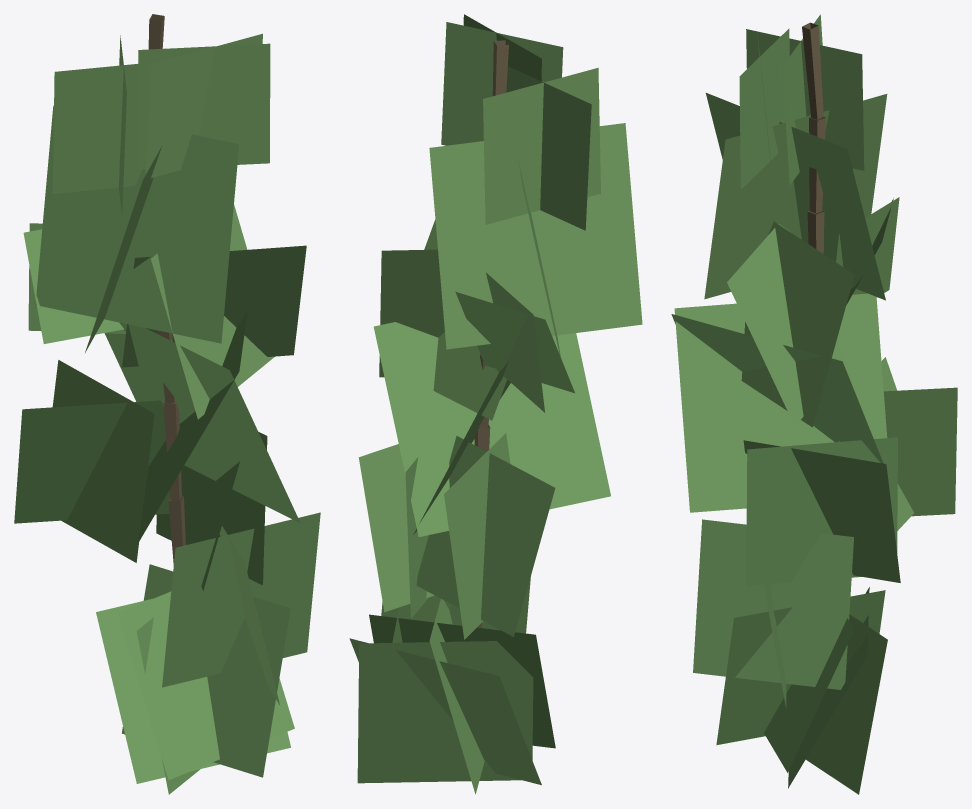
Rendered from ivy.glb.
3 views of the same model, side by side, from view 1: azimuth 30°, elevation 25°; view 2: azimuth 150°, elevation 25°; view 3: azimuth 270°, elevation 25° (orthographic). The views are drawn at different scales.
Visible parts, largest first — view 1: ivy_leaves, ivy_wood; view 2: ivy_leaves, ivy_wood; view 3: ivy_leaves, ivy_wood.
Boxes of the visible parts, x1,y1,x2,y2 form: ivy_leaves: (14, 33, 320, 794); ivy_wood: (148, 14, 185, 565); ivy_leaves: (349, 14, 642, 794); ivy_wood: (474, 40, 508, 627); ivy_leaves: (671, 14, 957, 794); ivy_wood: (802, 22, 825, 253).
Bounding box in the file's own units: 0.6314 × 1.87 × 0.6797.
